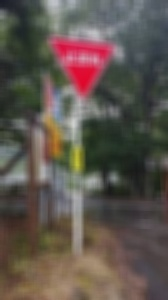Regulatory_sign_triangle: (43, 32, 122, 107)
